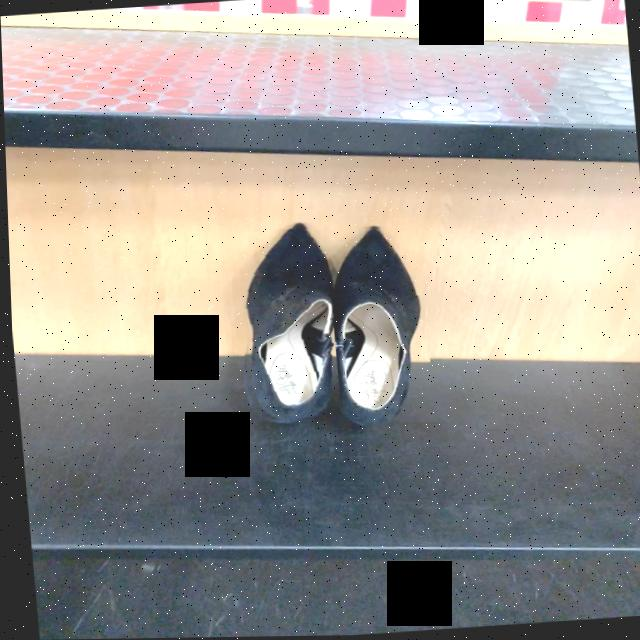shoe: (329, 229, 422, 426), (236, 231, 328, 419)
